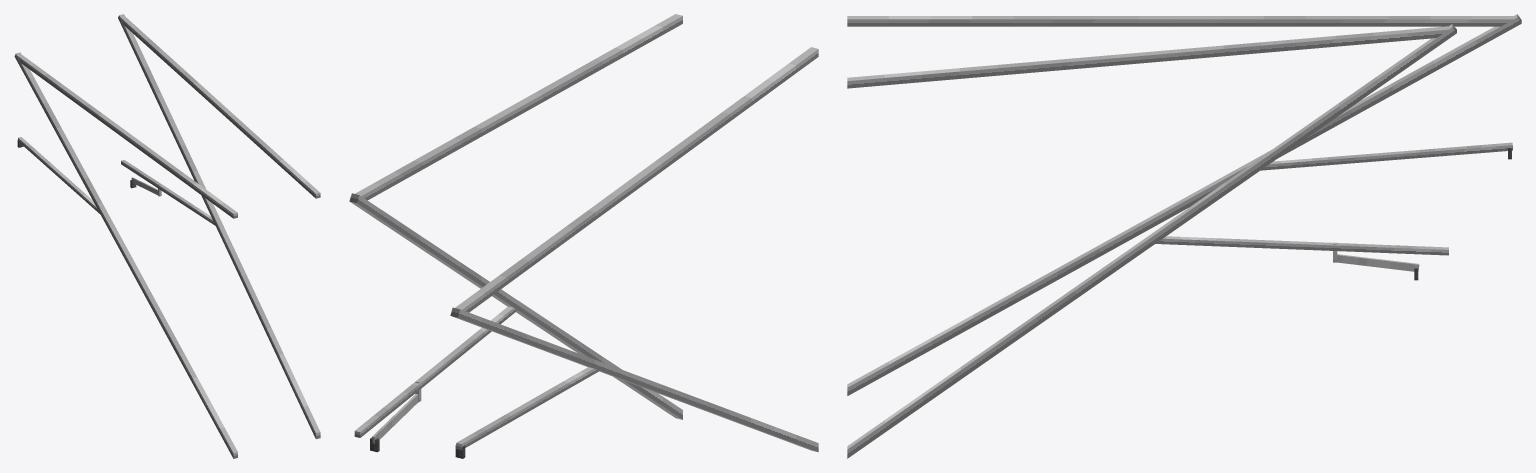
Rendered from cantilever_inner_12px.obj.
3 views of the same model, side by side, from view 1: azimuth 30°, elevation 25°; view 2: azimuth 150°, elevation 25°; view 3: azimuth 270°, elevation 25° (orthographic). The views are drawn at different scales.
Parts seen in each view (by area): view 1: e8dd8799-c819-465b-ba64-d1e58062172e, 746bb4c3-83c9-4759-9ed1-260d0ce834a0, d84c7d34-eca5-4114-b539-39cc24adbfa2, 4b857c5e-db3d-4251-a20d-f5c63174111f, 0df54a7e-1749-4ab6-94bc-b5cceccfeb5f, 30bfbffa-f4e6-4bc4-bf1a-7760dc4583b4; view 2: d84c7d34-eca5-4114-b539-39cc24adbfa2, 4b857c5e-db3d-4251-a20d-f5c63174111f, e8dd8799-c819-465b-ba64-d1e58062172e, 746bb4c3-83c9-4759-9ed1-260d0ce834a0, 0df54a7e-1749-4ab6-94bc-b5cceccfeb5f, 30bfbffa-f4e6-4bc4-bf1a-7760dc4583b4, c59f539b-57a4-4d25-857f-453e96469757; view 3: 746bb4c3-83c9-4759-9ed1-260d0ce834a0, e8dd8799-c819-465b-ba64-d1e58062172e, d84c7d34-eca5-4114-b539-39cc24adbfa2, 4b857c5e-db3d-4251-a20d-f5c63174111f, 0df54a7e-1749-4ab6-94bc-b5cceccfeb5f, 30bfbffa-f4e6-4bc4-bf1a-7760dc4583b4, c59f539b-57a4-4d25-857f-453e96469757.
Boxes of the visible parts, x1,y1,x2,y2 form: e8dd8799-c819-465b-ba64-d1e58062172e: (14, 52, 237, 458); 746bb4c3-83c9-4759-9ed1-260d0ce834a0: (118, 14, 320, 439); d84c7d34-eca5-4114-b539-39cc24adbfa2: (17, 54, 237, 218); 4b857c5e-db3d-4251-a20d-f5c63174111f: (120, 16, 320, 198); 0df54a7e-1749-4ab6-94bc-b5cceccfeb5f: (121, 160, 215, 225); 30bfbffa-f4e6-4bc4-bf1a-7760dc4583b4: (18, 137, 100, 214); d84c7d34-eca5-4114-b539-39cc24adbfa2: (455, 47, 818, 312); 4b857c5e-db3d-4251-a20d-f5c63174111f: (355, 14, 682, 200); e8dd8799-c819-465b-ba64-d1e58062172e: (450, 307, 818, 452); 746bb4c3-83c9-4759-9ed1-260d0ce834a0: (349, 193, 682, 419); 0df54a7e-1749-4ab6-94bc-b5cceccfeb5f: (354, 306, 517, 437); 30bfbffa-f4e6-4bc4-bf1a-7760dc4583b4: (456, 367, 599, 450); c59f539b-57a4-4d25-857f-453e96469757: (372, 394, 418, 443); 746bb4c3-83c9-4759-9ed1-260d0ce834a0: (847, 24, 1456, 458); e8dd8799-c819-465b-ba64-d1e58062172e: (847, 14, 1521, 395); d84c7d34-eca5-4114-b539-39cc24adbfa2: (847, 16, 1513, 26); 4b857c5e-db3d-4251-a20d-f5c63174111f: (847, 26, 1448, 88); 0df54a7e-1749-4ab6-94bc-b5cceccfeb5f: (1155, 236, 1448, 255); 30bfbffa-f4e6-4bc4-bf1a-7760dc4583b4: (1261, 142, 1512, 170); c59f539b-57a4-4d25-857f-453e96469757: (1337, 254, 1419, 271).
Size of the model in its own units: 1.19 by 3.66 by 5.18.
